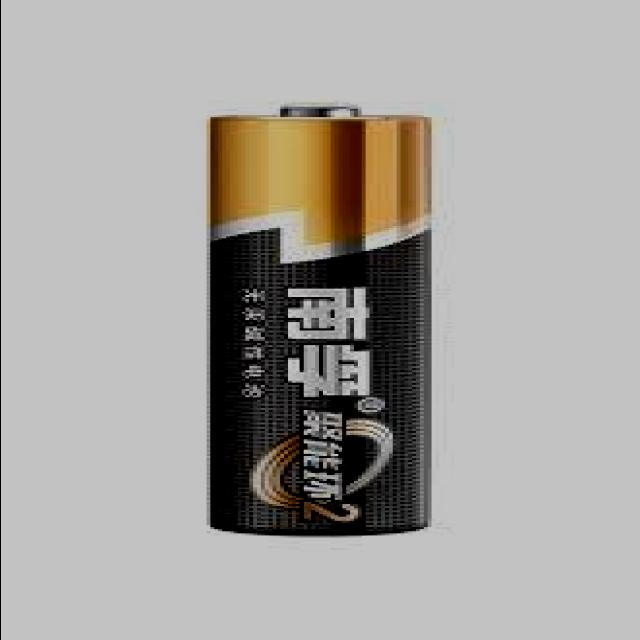AA: (210, 104, 438, 536)
